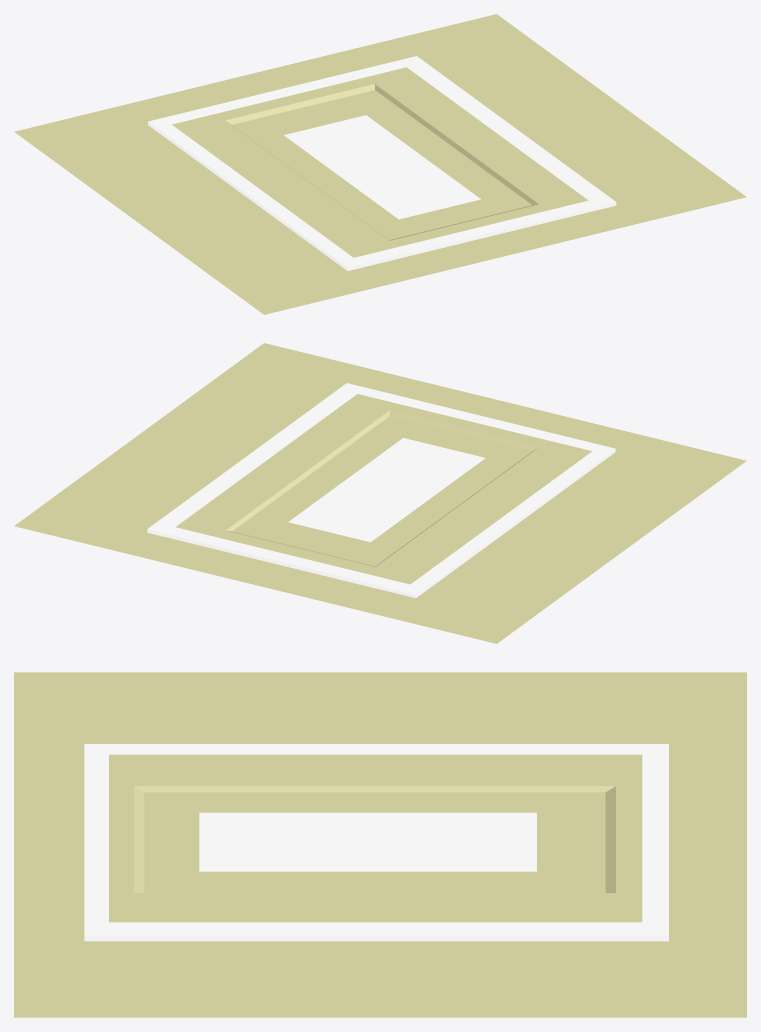
File: ceiling2.glb
3 views of the same model, one above another, from view 1: azimuth 30°, elevation 25°; view 2: azimuth 150°, elevation 25°; view 3: azimuth 270°, elevation 25° (orthographic). The views are drawn at different scales.
Visible parts, largest first — view 1: Plane.001, Plane.004, Plane.002, Plane.003; view 2: Plane.001, Plane.004, Plane.002, Plane.003; view 3: Plane.001, Plane.004, Plane.002, Plane.003.
Boxes of the visible parts, x1,y1,x2,y2 form: Plane.001: [14, 14, 746, 314]; Plane.004: [148, 56, 615, 267]; Plane.002: [284, 115, 480, 219]; Plane.003: [148, 122, 616, 270]; Plane.001: [14, 343, 746, 643]; Plane.004: [147, 383, 615, 594]; Plane.002: [289, 438, 485, 541]; Plane.003: [147, 449, 615, 598]; Plane.001: [14, 672, 746, 1017]; Plane.004: [84, 744, 668, 935]; Plane.002: [199, 812, 536, 871]; Plane.003: [84, 936, 668, 941].
Size of the model in its own units: 29.95 by 0.2107 by 26.89.
